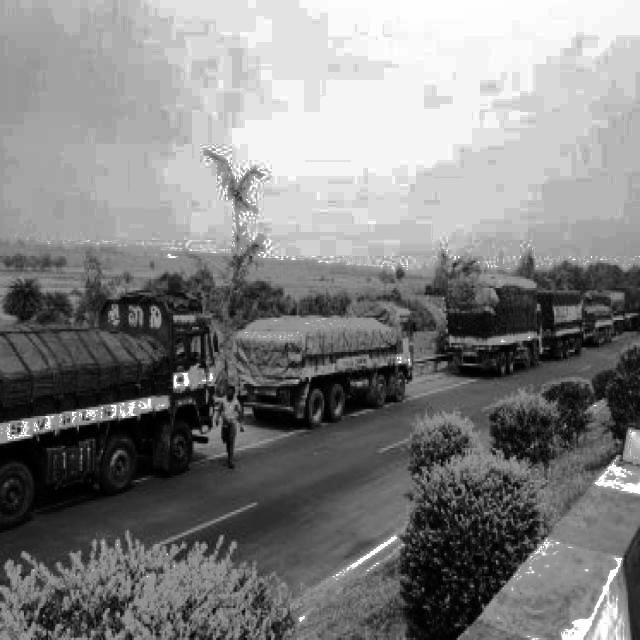HCV: (0, 276, 222, 544), (235, 273, 421, 441), (442, 262, 548, 393)
